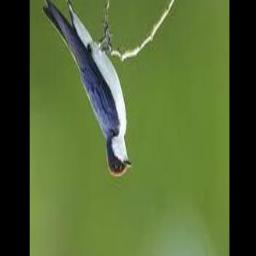Swallow: (41, 0, 133, 176)
